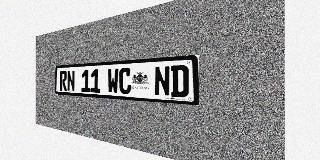1: (90, 69, 100, 93), (81, 69, 90, 92)
C: (119, 67, 131, 95)
D: (171, 65, 189, 98)
N: (154, 66, 170, 97), (67, 70, 75, 91)
R: (60, 71, 67, 91)
W: (107, 68, 119, 94)
